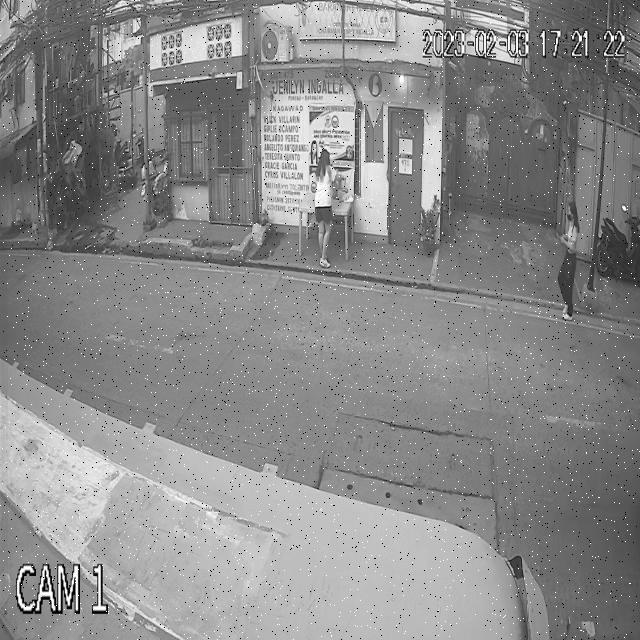human: (555, 201, 581, 322), (314, 147, 338, 275)
